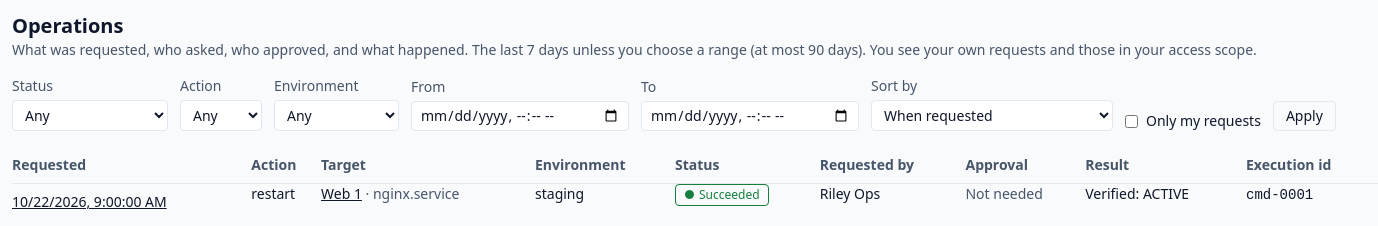
Test: filters go to the backend › shows the backend's refusal of a range it will not serve, not an empty table
The width and height of the screenshot is (1378, 226).
Expected: the link "Web 1" is shown, [321,184,362,203]
Type "2025-01-01T00:00" into the field labelled "From".
click(520, 116); type("2025-01-01T00:00")  # box [411,101,629,131]
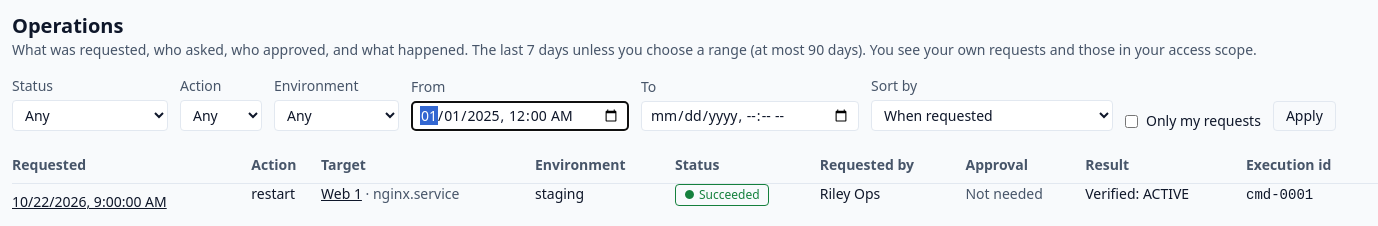
Click the button "Apply".
click(1304, 116)  # box [1273,101,1336,131]
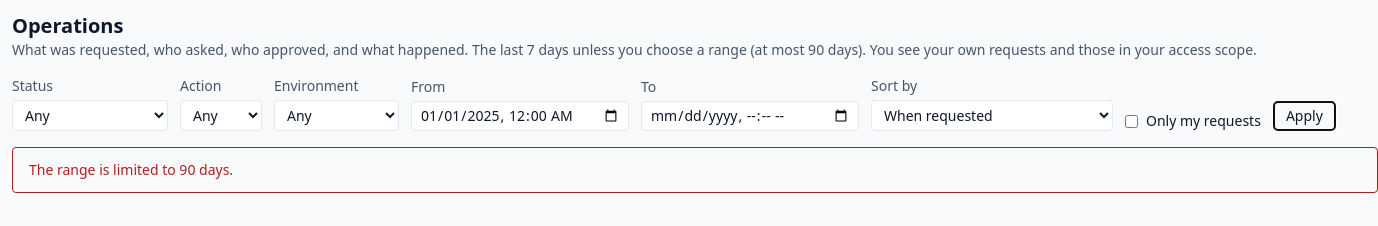
Expected: the message shows "90 days", [29,160,233,179]
